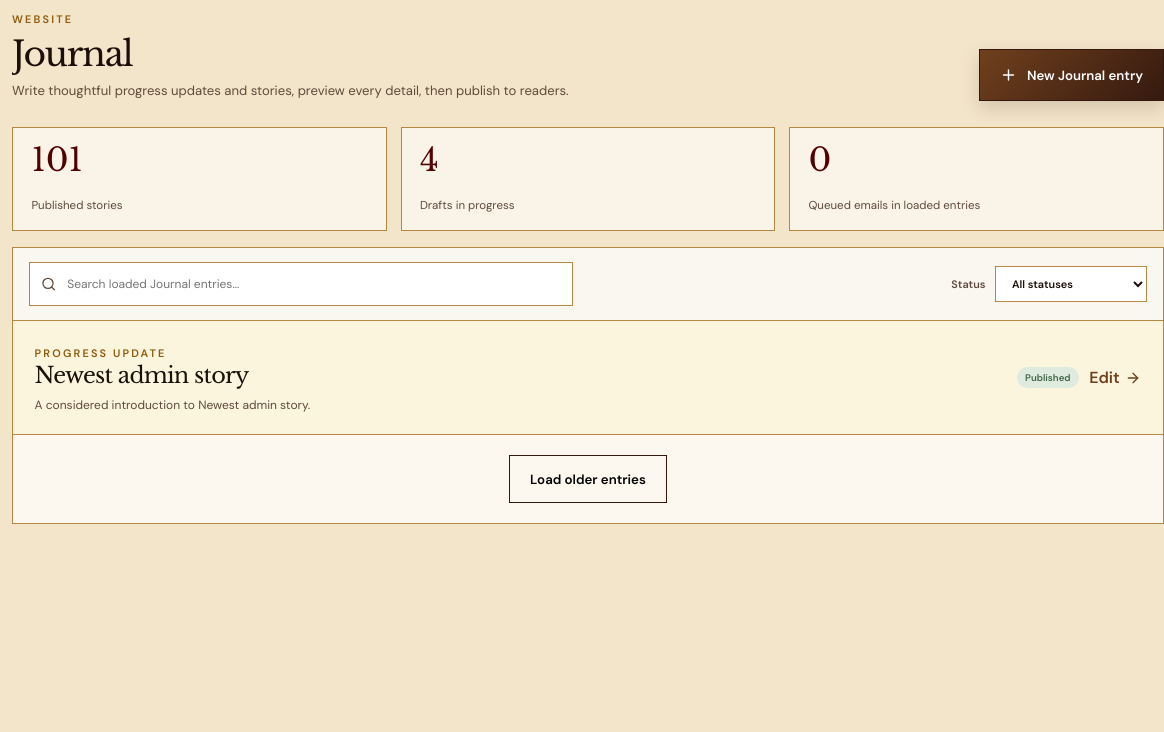
Test: public Journal reliability › paginates the administrator list and reports full collection counts
Expected: the link "Newest admin story" is shown, [35, 361, 248, 389]
Expected: the text "101" is shown, [31, 140, 83, 180]
Step 1. Click the button "Load older entries" → (588, 479), box [509, 455, 667, 503]
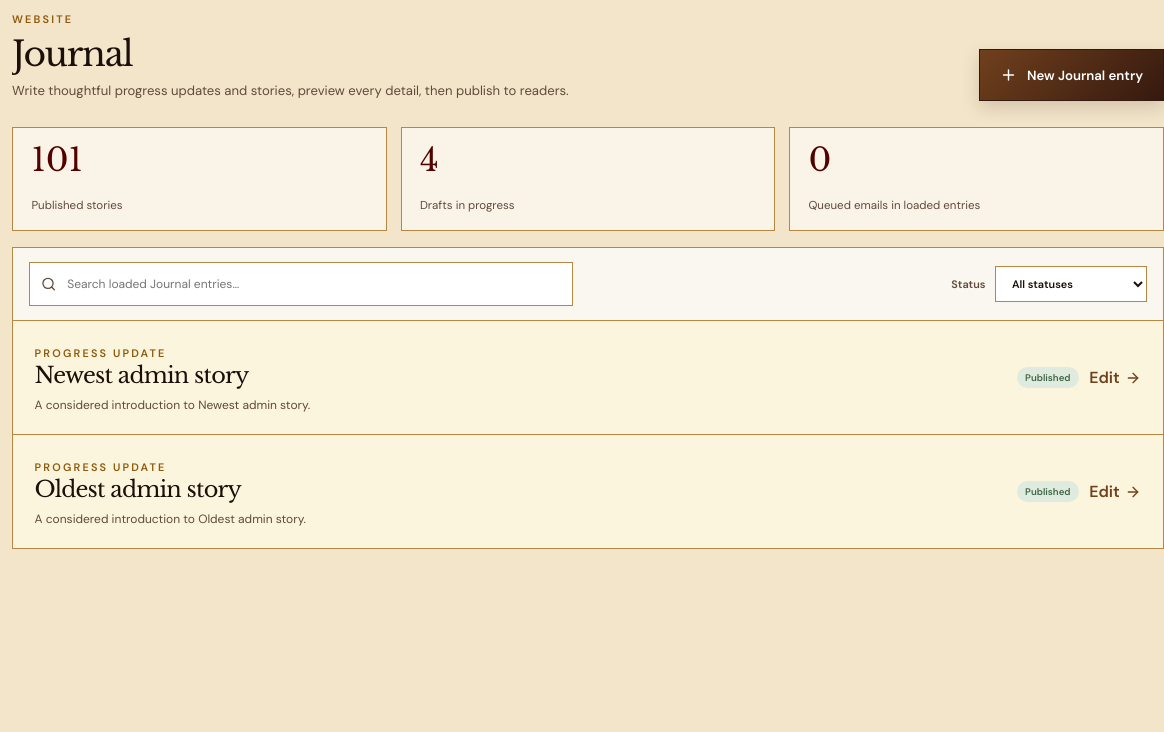
Expected: the link "Oldest admin story" is shown, [35, 475, 241, 503]
